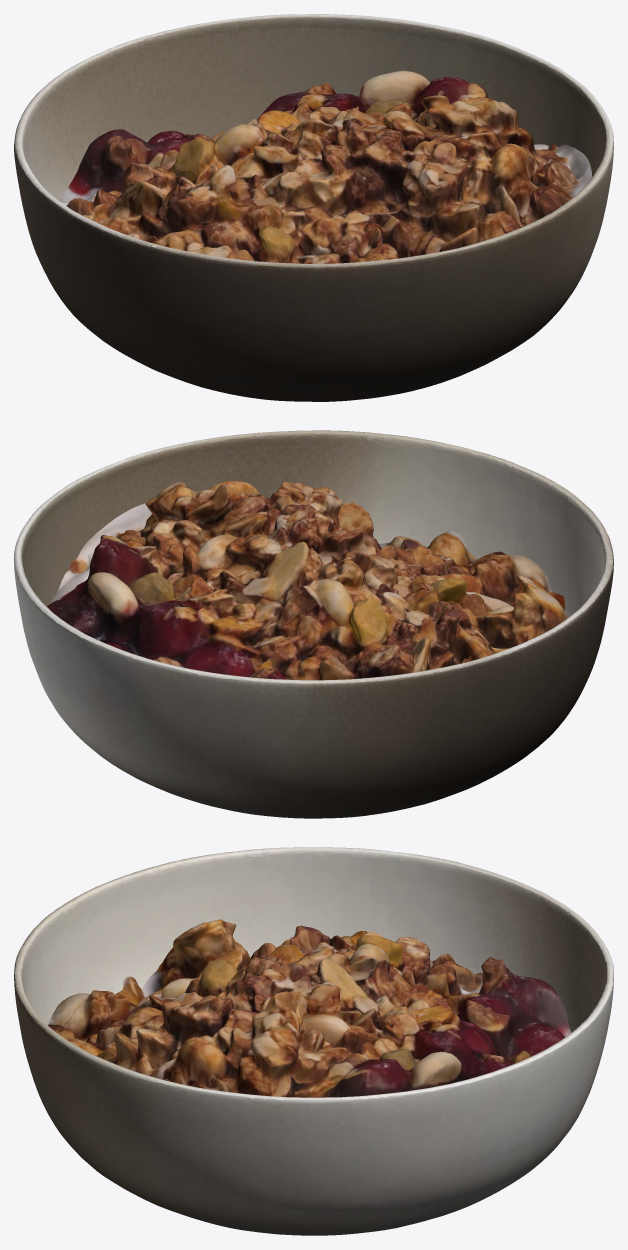
Rendered from Granola.whipped.coconut.yogurt.cherry.001.glb.
3 views of the same model, one above another, from view 1: azimuth 30°, elevation 25°; view 2: azimuth 150°, elevation 25°; view 3: azimuth 270°, elevation 25° (orthographic).
Parts seen in each view (by area): view 1: /Root/Scenes/Scene/Object_153/Object_157/Object_158/Submesh_, /Root/Scenes/Scene/Object_153/Object_154/Submesh_0; view 2: /Root/Scenes/Scene/Object_153/Object_157/Object_158/Submesh_, /Root/Scenes/Scene/Object_153/Object_154/Submesh_0; view 3: /Root/Scenes/Scene/Object_153/Object_157/Object_158/Submesh_, /Root/Scenes/Scene/Object_153/Object_154/Submesh_0.
Part boxes in pixels (x1=…): /Root/Scenes/Scene/Object_153/Object_157/Object_158/Submesh_: x1=14, y1=14, x2=613, y2=401; /Root/Scenes/Scene/Object_153/Object_154/Submesh_0: x1=59, y1=70, x2=592, y2=263; /Root/Scenes/Scene/Object_153/Object_157/Object_158/Submesh_: x1=14, y1=430, x2=613, y2=818; /Root/Scenes/Scene/Object_153/Object_154/Submesh_0: x1=47, y1=481, x2=567, y2=680; /Root/Scenes/Scene/Object_153/Object_157/Object_158/Submesh_: x1=14, y1=847, x2=613, y2=1235; /Root/Scenes/Scene/Object_153/Object_154/Submesh_0: x1=48, y1=919, x2=570, y2=1097.
Bounding box in the file's own units: 0.214 × 0.084 × 0.2141.
Materials: 2 (2 with a texture image).
